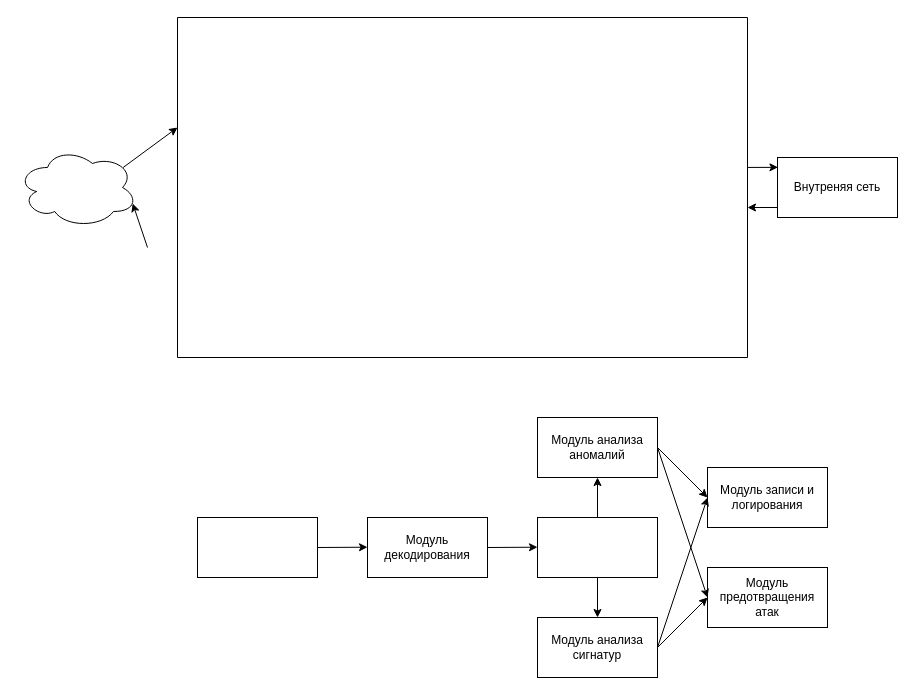
Some shapes in this 915 by 695 pixel diagram are drawn without their labels. Here are the shapes that lost their labels. From the top down, the box of each, then its label:
(16, 146, 138, 228): Интернет
(196, 516, 318, 578): Модуль захвата трафика
(536, 516, 658, 578): Модуль потоковой сборки
